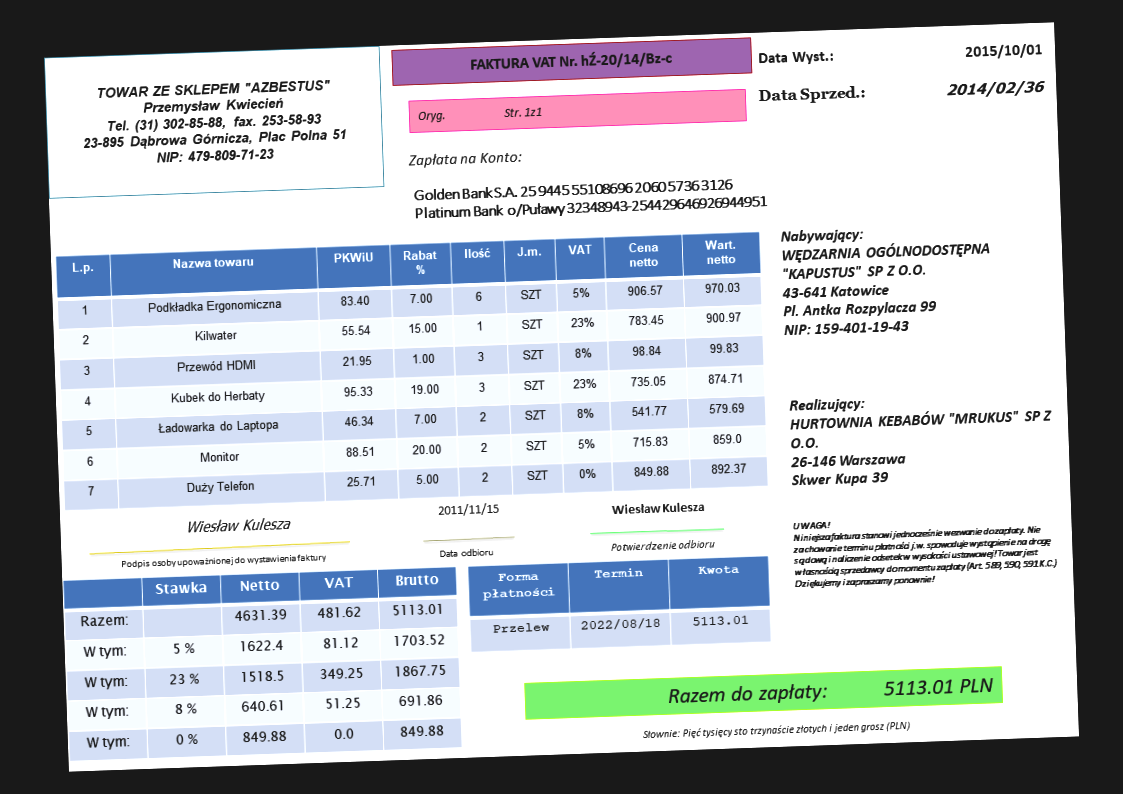Table: (54, 229, 768, 510), (63, 565, 463, 762), (466, 555, 772, 653)
TextBox: (787, 387, 1056, 489), (779, 222, 997, 340), (78, 77, 351, 170), (790, 510, 1061, 591), (412, 175, 771, 222), (665, 673, 996, 707), (641, 718, 912, 743), (469, 46, 675, 75), (119, 549, 328, 571), (405, 147, 524, 171), (757, 84, 869, 107), (945, 77, 1047, 102), (184, 514, 294, 537), (415, 104, 544, 123), (609, 497, 707, 518), (608, 537, 717, 555), (963, 41, 1044, 61), (757, 48, 836, 68), (435, 500, 501, 519), (437, 545, 494, 560)
